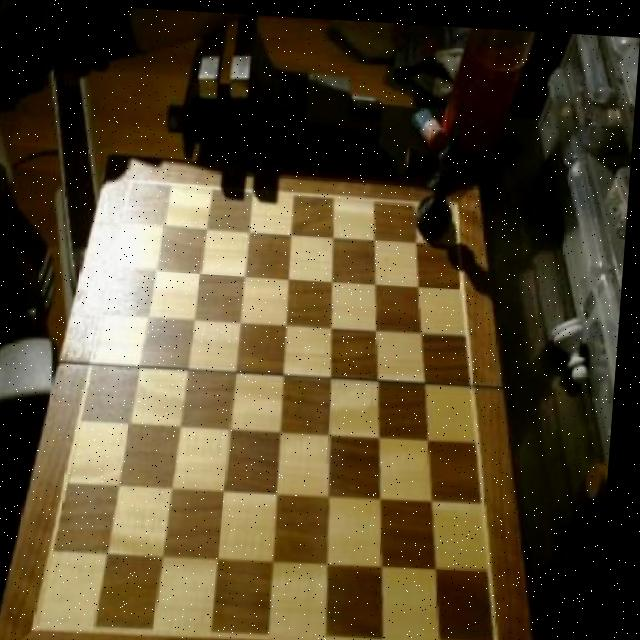black-bishop: (413, 135, 465, 237)
